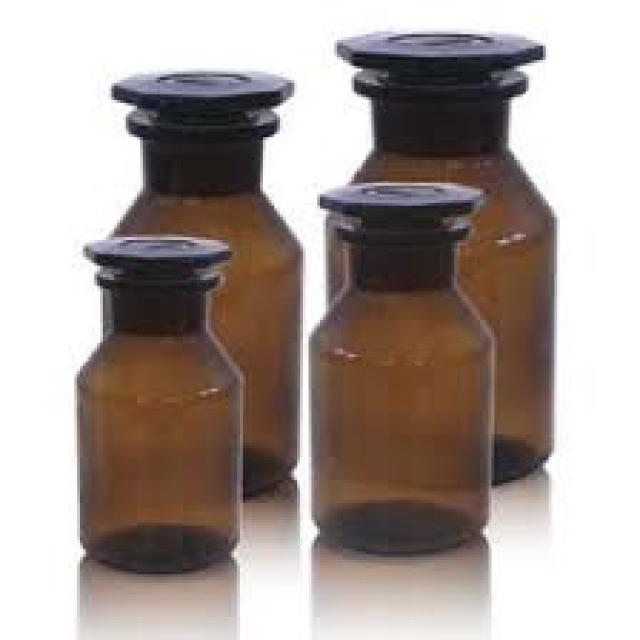glass: (311, 151, 551, 551), (77, 189, 300, 571)
